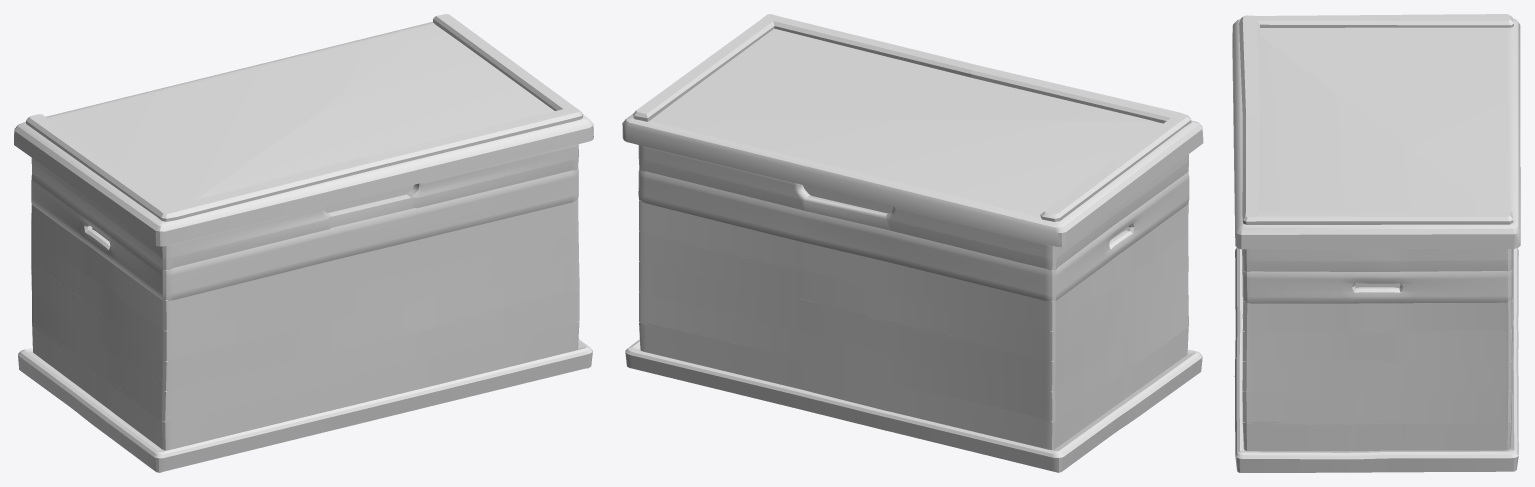
The model's file is chest.fbx.
The picture shows the model from 3 angles, left to right: view 1: azimuth 30°, elevation 25°; view 2: azimuth 150°, elevation 25°; view 3: azimuth 270°, elevation 25°; orthographic projection.
Visible parts, largest first — view 1: chest, chest_top; view 2: chest, chest_top; view 3: chest_top, chest.
Part boxes in pixels (bbox=[...]): chest: bbox=[18, 144, 592, 472]; chest_top: bbox=[14, 14, 593, 246]; chest: bbox=[625, 145, 1202, 472]; chest_top: bbox=[622, 14, 1203, 247]; chest_top: bbox=[1232, 14, 1520, 249]; chest: bbox=[1234, 248, 1518, 472].
Bounding box in the file's own units: 1.17 × 0.651 × 0.6688.
3 materials, 2 textured.
